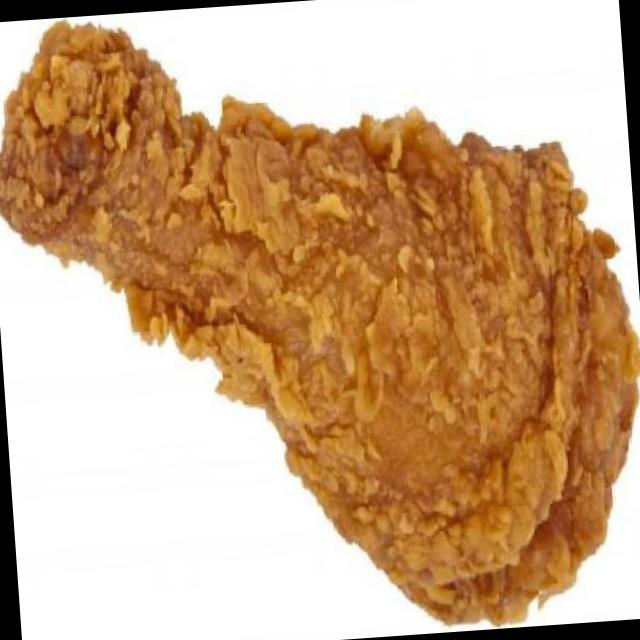Fried Chicken: (0, 17, 640, 626)
